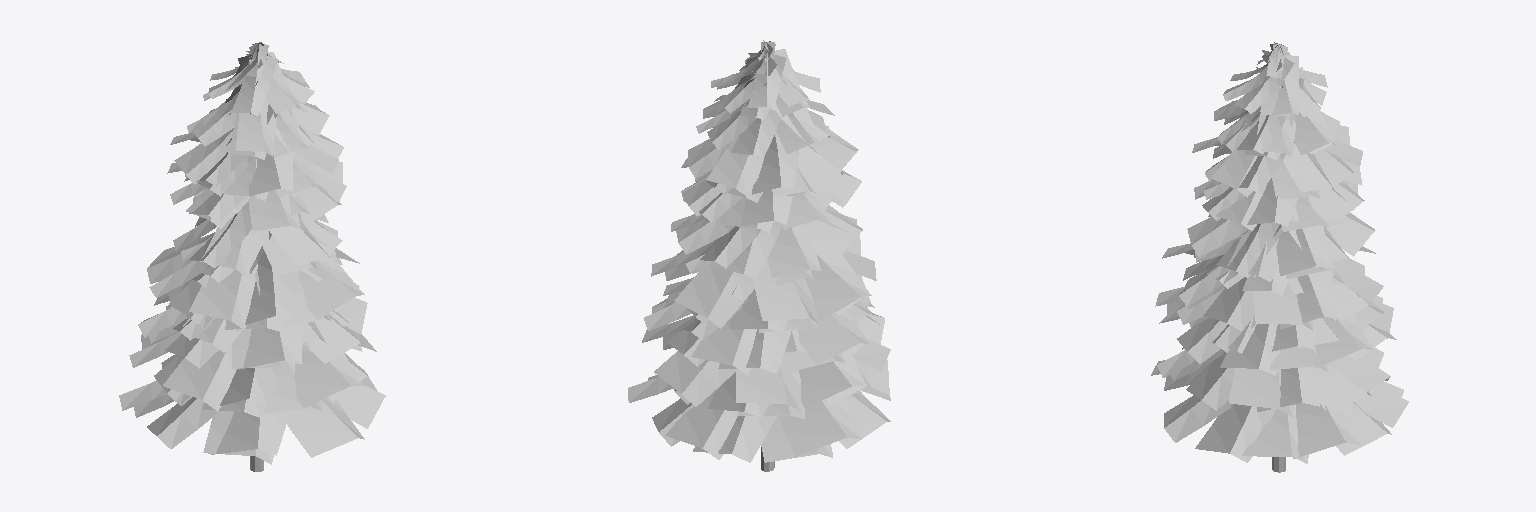
File: Tree10.obj
The picture shows the model from 3 angles: view 1: azimuth 30°, elevation 25°; view 2: azimuth 150°, elevation 25°; view 3: azimuth 270°, elevation 25°; orthographic projection.
Parts seen in each view (by area): view 1: Cylinder.001; view 2: Cylinder.001; view 3: Cylinder.001.
Part boxes in pixels (x1,y1,x2,y2): Cylinder.001: (119, 42, 385, 471); Cylinder.001: (628, 40, 890, 471); Cylinder.001: (1151, 42, 1408, 472).
Bounding box in the file's own units: 4.65 × 8.32 × 4.58.